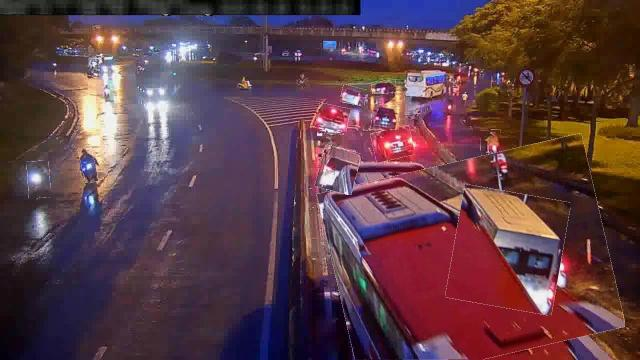Bike: (28, 162, 50, 198), (507, 156, 529, 190), (80, 147, 96, 183), (481, 130, 501, 156)
Bus: (326, 147, 616, 359), (449, 188, 566, 312)
Car: (317, 146, 359, 194), (372, 127, 414, 161), (316, 104, 349, 132), (371, 104, 399, 130), (341, 86, 367, 106), (372, 80, 396, 94)
